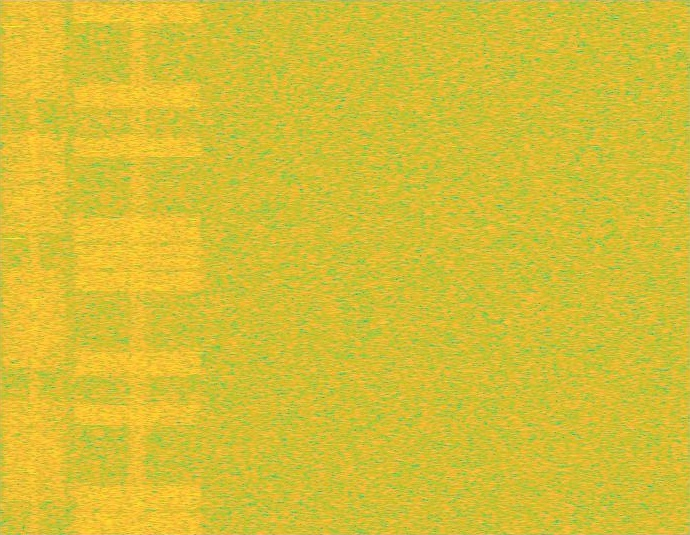5G: (0, 0, 69, 534)
DSSS: (129, 0, 147, 534), (30, 0, 39, 534)
LTE: (69, 0, 207, 534)
Radar: (7, 0, 21, 534)
